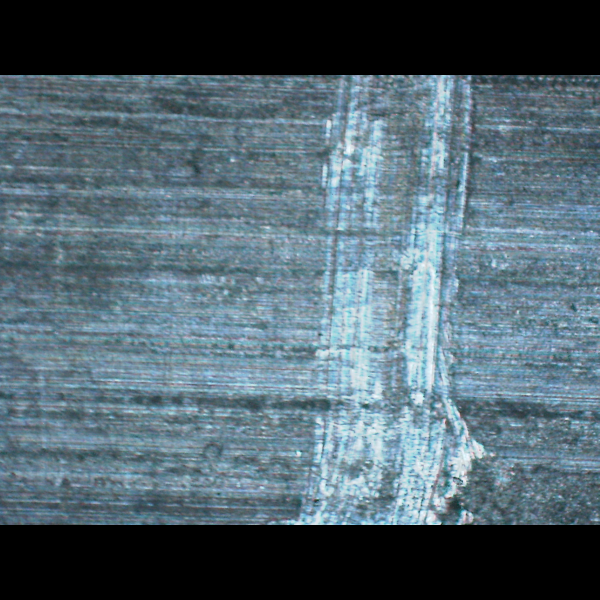d: (280, 75, 501, 524)
